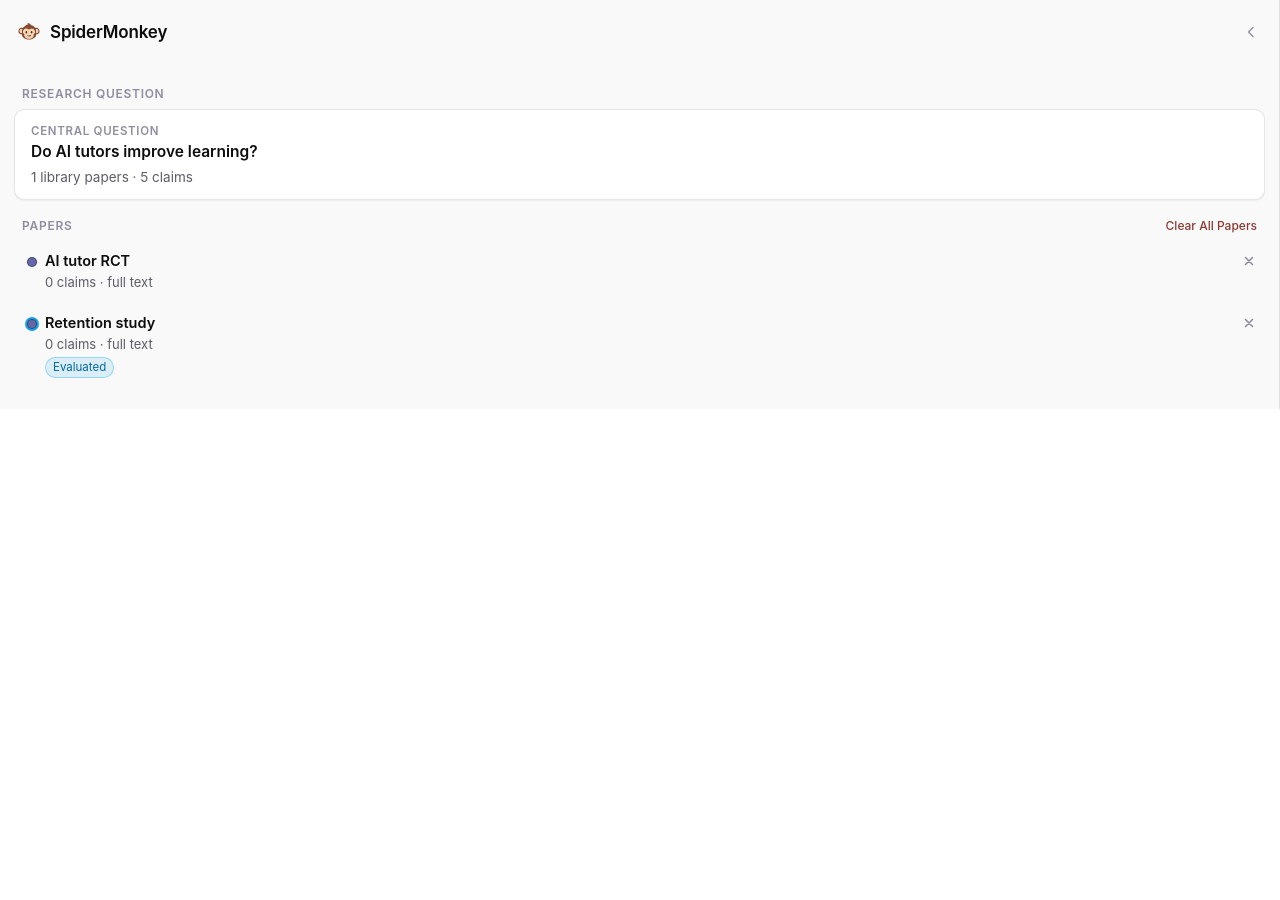
WorkspacePanel — clearing papers › a refused clear (e.g. analysis running in another tab) keeps the dialog open with the reason
Click the button "Clear All Papers" at (1211, 225), box [1166,218,1257,233]
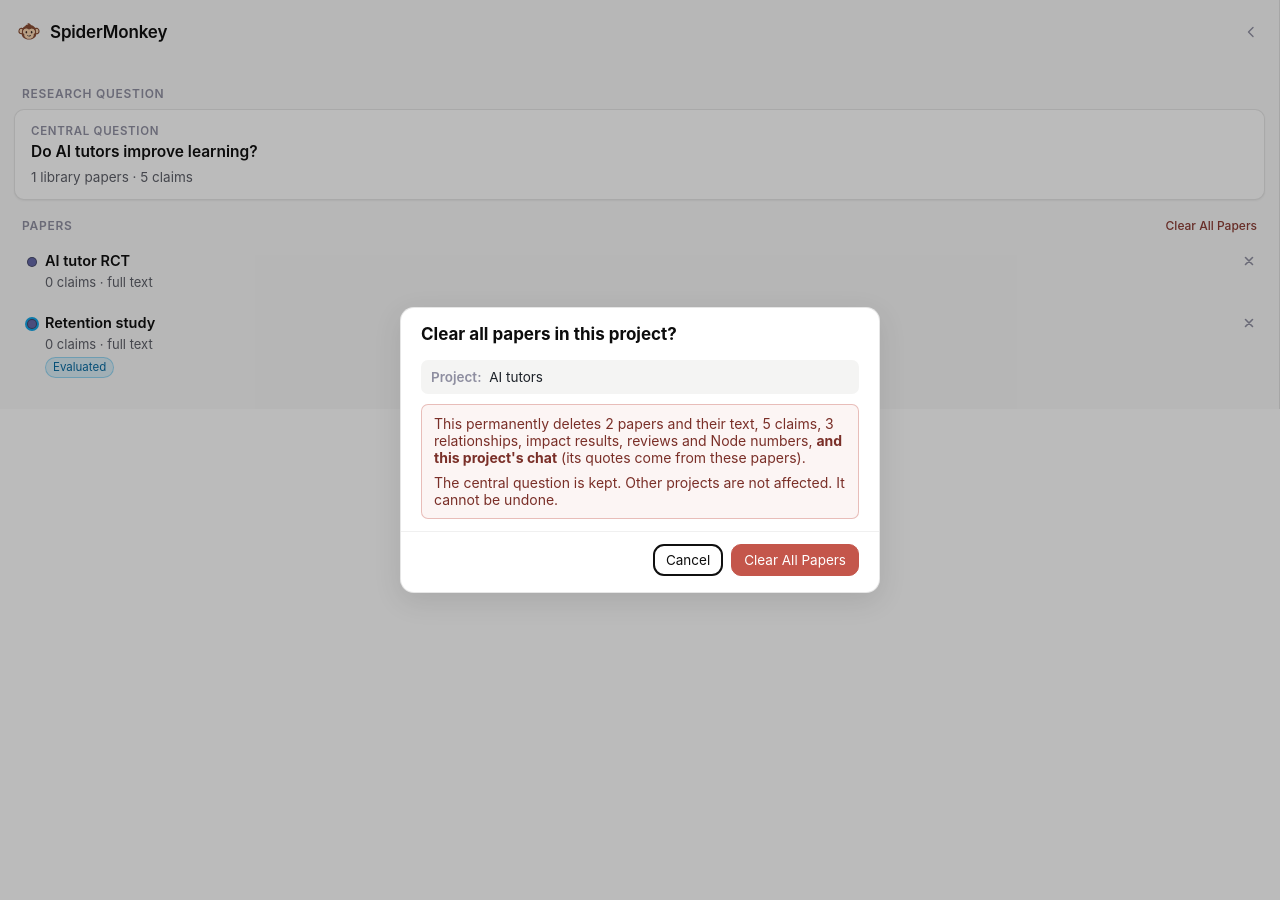
Click the button "Clear All Papers" at (795, 560), box [731,544,859,576]
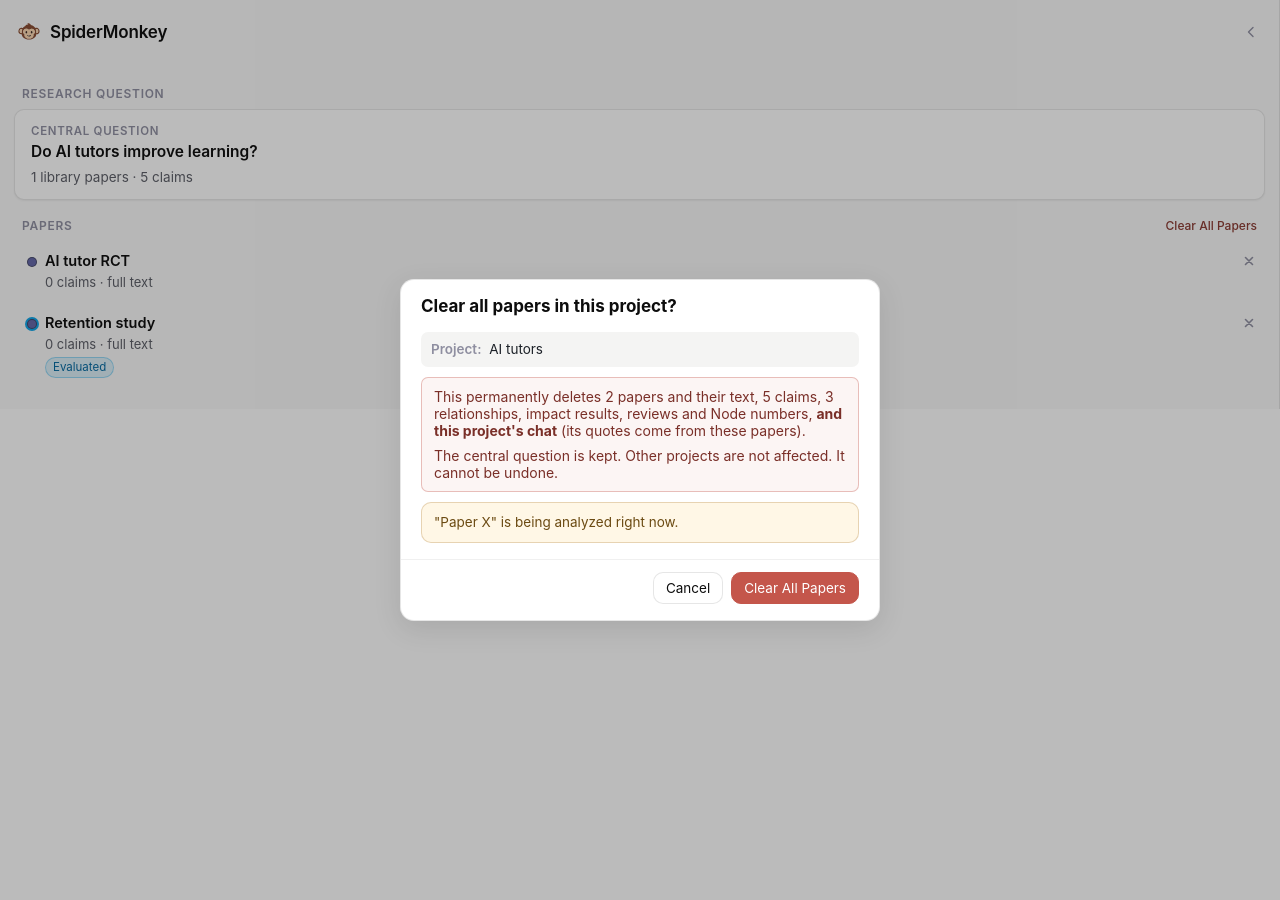
Expected: the dialog is shown, [400,279,880,621]
Expected: the message shows "being analyzed", [434,514,678,530]
